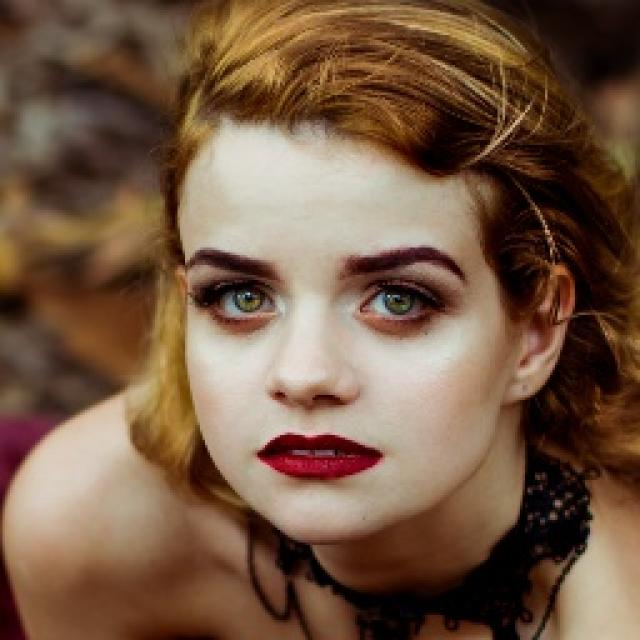earlobe: (505, 263, 574, 406)
